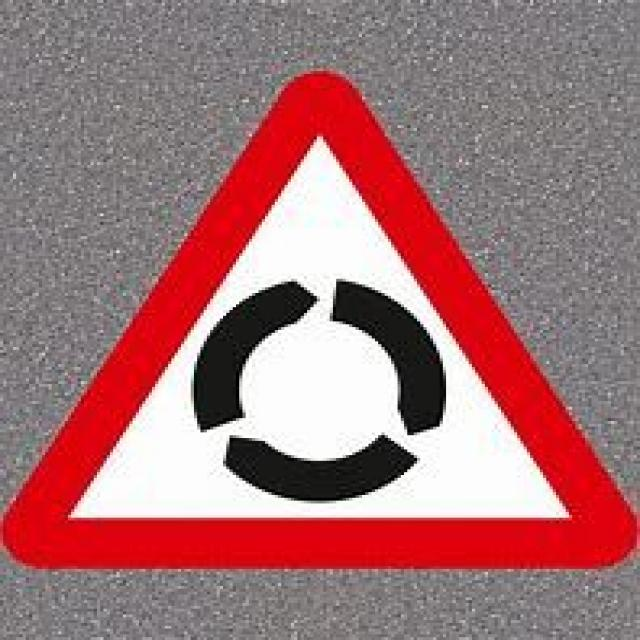ROUNDABOUT: (0, 65, 637, 558)
